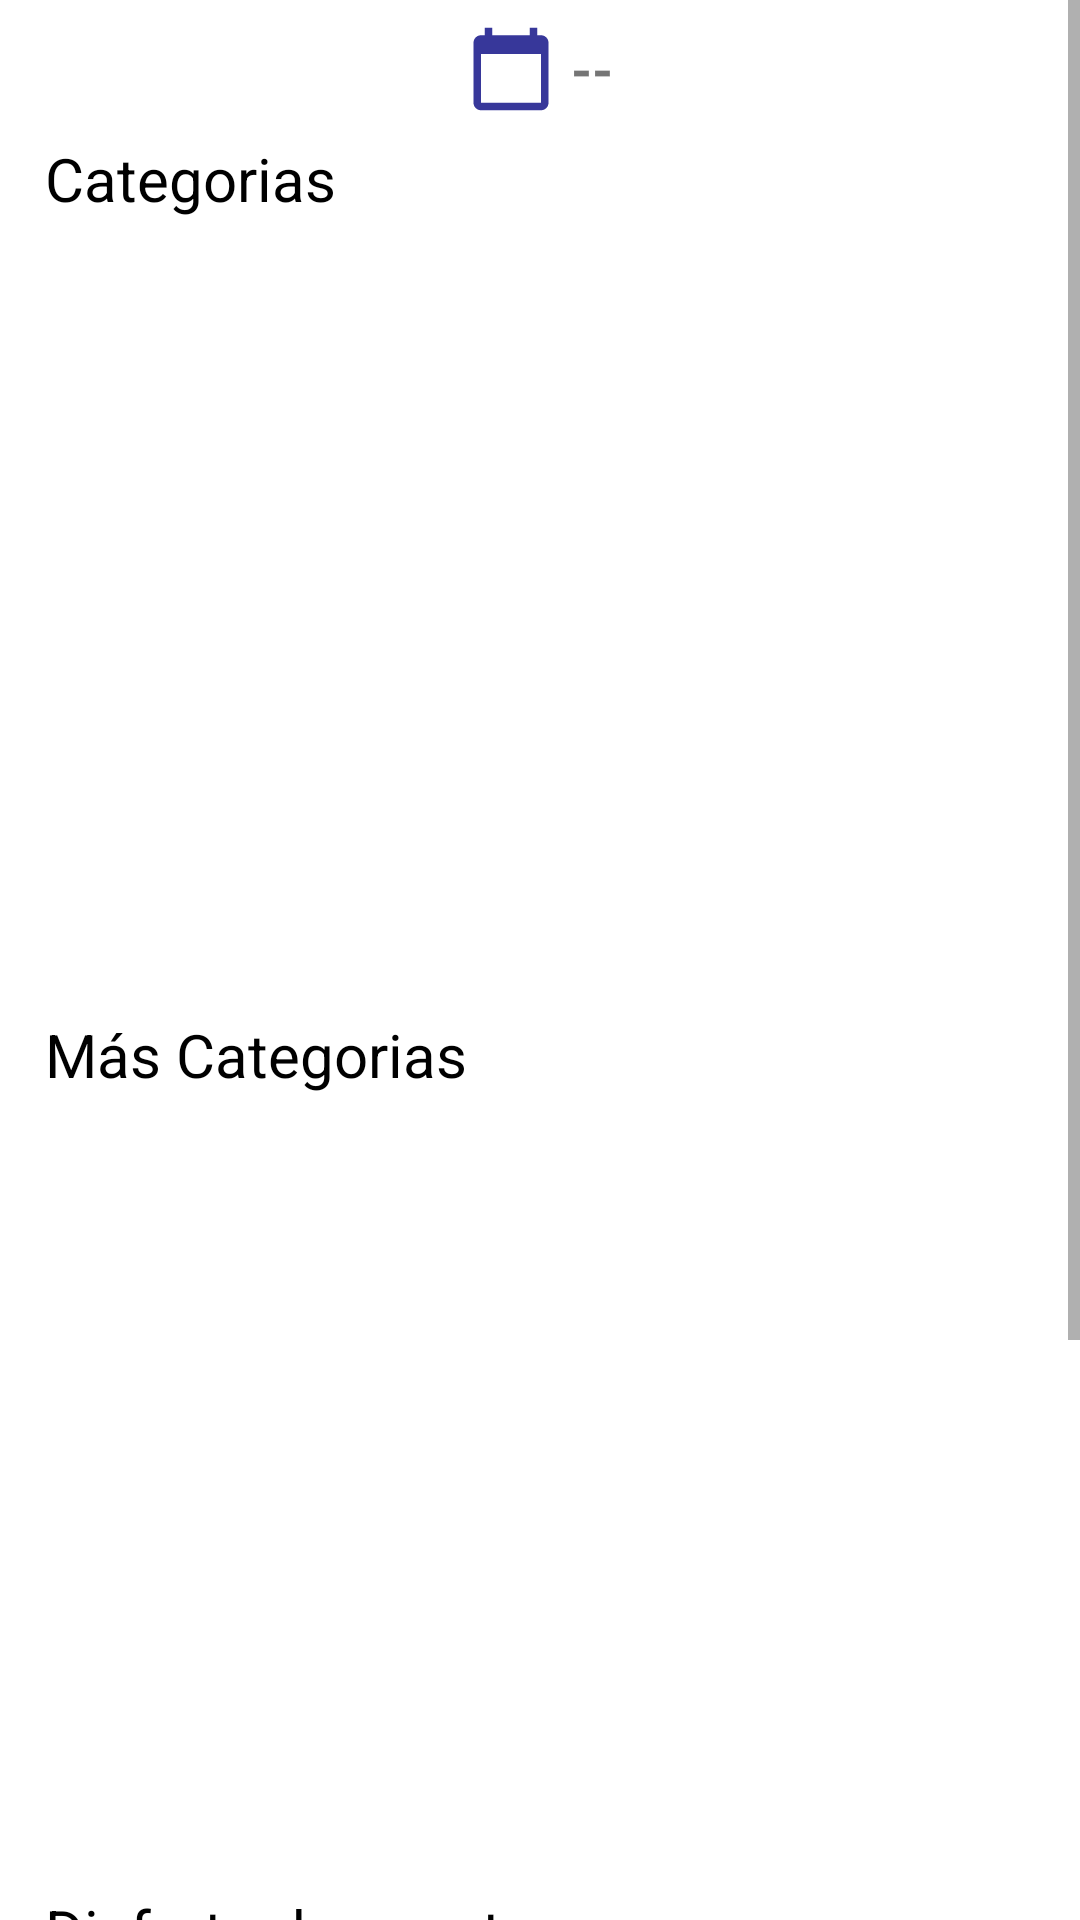

Screen size 1080px×1920px. Icon name, then its center in pixels as [x,y]:
calendar: [511,69]
